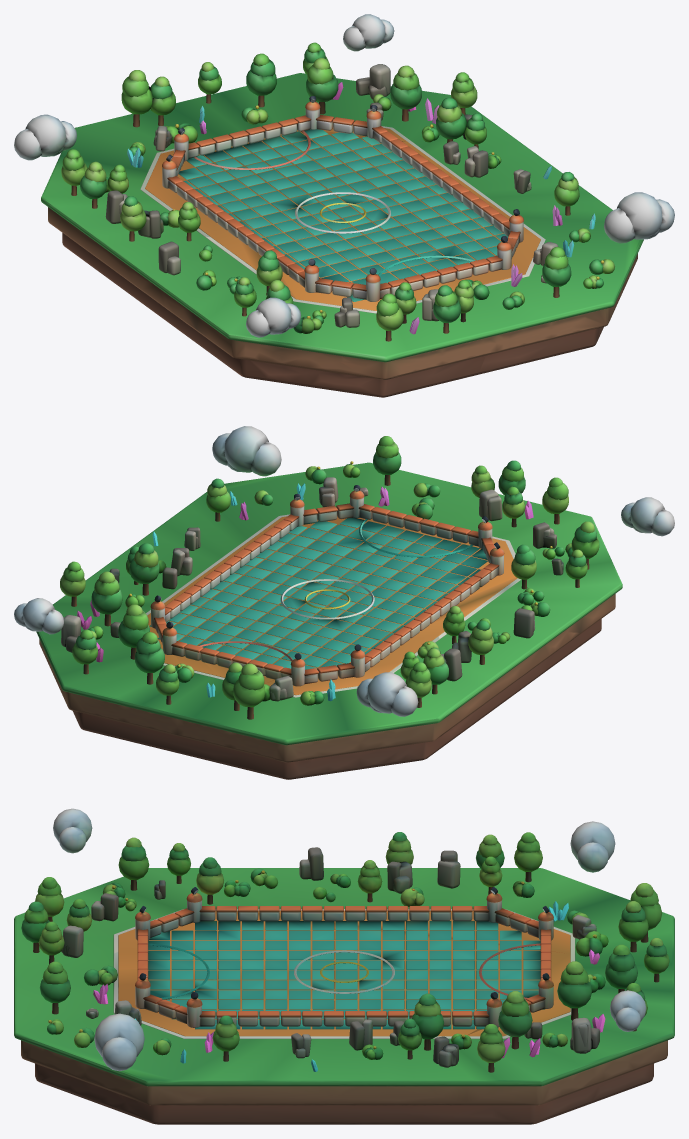
Rendered from jardim.glb.
3 views of the same model, one above another, from view 1: azimuth 30°, elevation 25°; view 2: azimuth 150°, elevation 25°; view 3: azimuth 270°, elevation 25° (orthographic). The views are drawn at different scales.
Visible parts, largest first — view 1: jardim_floor__dark; view 2: jardim_floor__dark; view 3: jardim_floor__dark.
Boxes of the visible parts, left/top/right/bottom form: jardim_floor__dark: left=14, top=14, right=674, bottom=397; jardim_floor__dark: left=14, top=426, right=674, bottom=779; jardim_floor__dark: left=14, top=808, right=674, bottom=1124.
Size of the model in its own units: 23.18 by 5.57 by 28.19.
